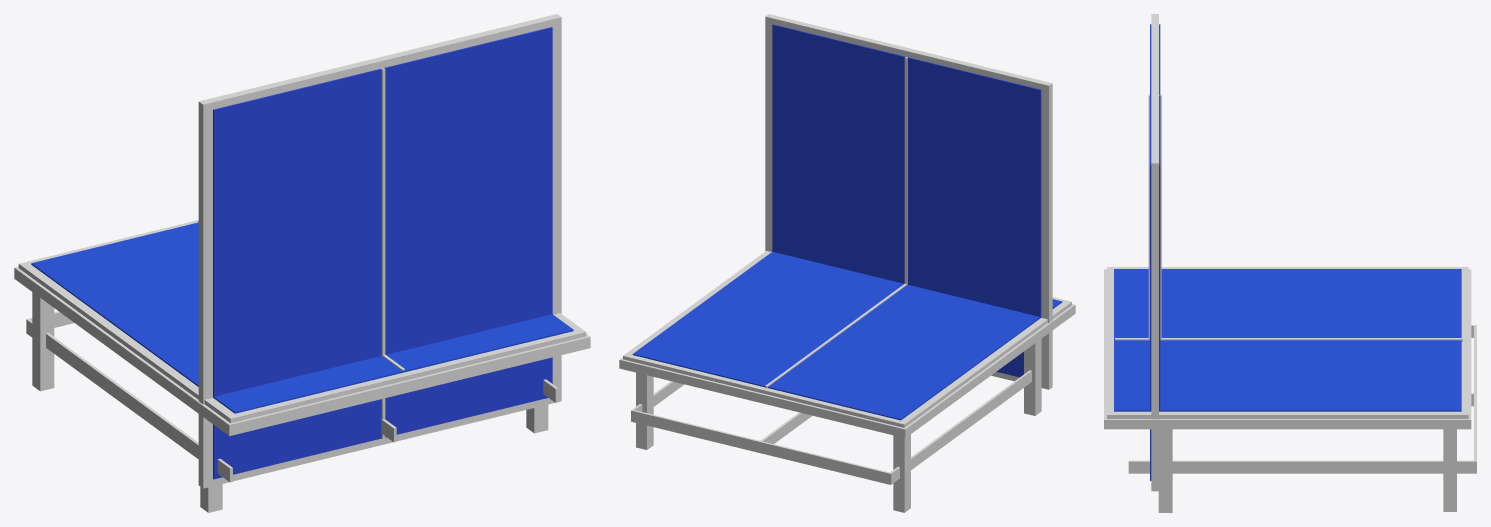
Rendered from tabletraining.fbx.
3 renders of one model, left to right at view 1: azimuth 30°, elevation 25°; view 2: azimuth 150°, elevation 25°; view 3: azimuth 270°, elevation 25°, orthographic. The views are drawn at different scales.
Visible parts, largest first — view 1: Cube.004, Cube.006, Cube.015, Cube.005, Cube.007; view 2: Cube.004, Cube.006, Cube.015, Cube.005, Cube.007, Cube.002; view 3: Cube.004, Cube.006, Cube.015, Cube.005, Cube.002, Cube.007.
Part boxes in pixels (<box>): Cube.004: <box>31,27,573,479</box>; Cube.006: <box>18,14,586,488</box>; Cube.015: <box>14,266,590,512</box>; Cube.005: <box>26,311,558,482</box>; Cube.007: <box>381,68,385,438</box>; Cube.004: <box>632,24,1062,420</box>; Cube.006: <box>623,14,1071,427</box>; Cube.015: <box>619,304,1075,512</box>; Cube.005: <box>631,370,1031,484</box>; Cube.007: <box>904,57,907,283</box>; Cube.002: <box>765,284,907,388</box>; Cube.004: <box>1114,24,1461,480</box>; Cube.006: <box>1107,14,1468,491</box>; Cube.015: <box>1104,269,1471,512</box>; Cube.005: <box>1128,325,1476,473</box>; Cube.002: <box>1115,338,1462,341</box>; Cube.007: <box>1148,94,1161,339</box>.
Size of the model in its own units: 256 by 280 by 268.
